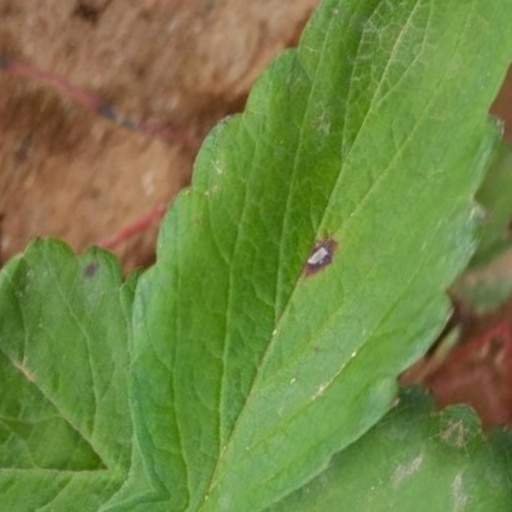Leaf Spot: (153, 0, 461, 511), (21, 0, 257, 199), (348, 0, 511, 212)
